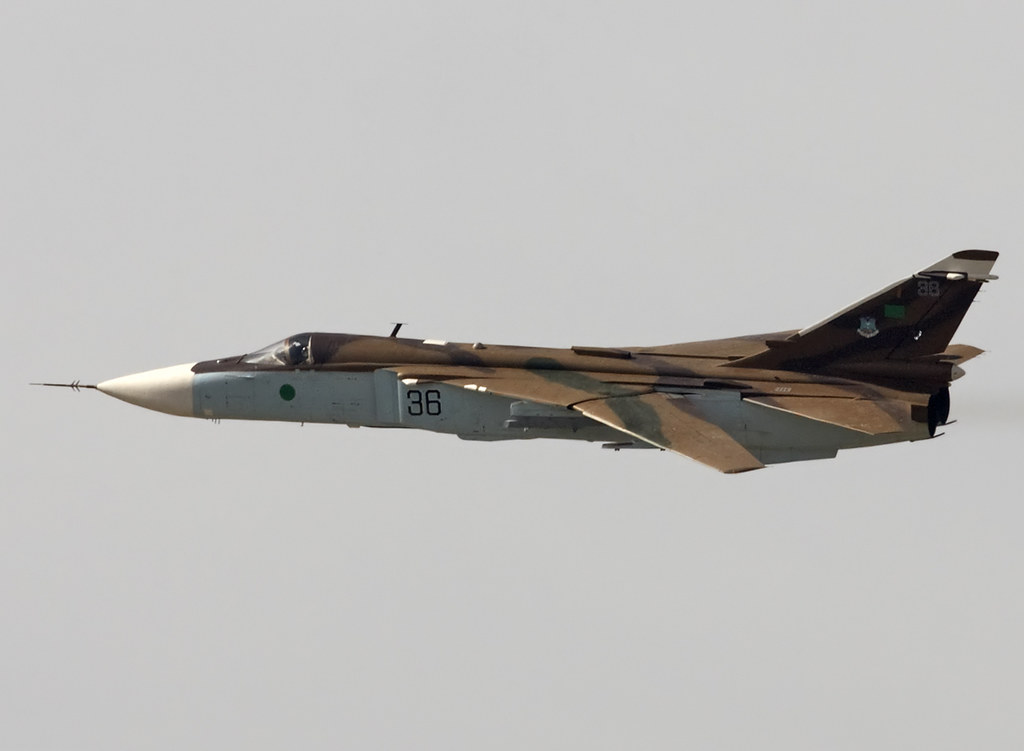airplane: (28, 249, 1000, 474)
